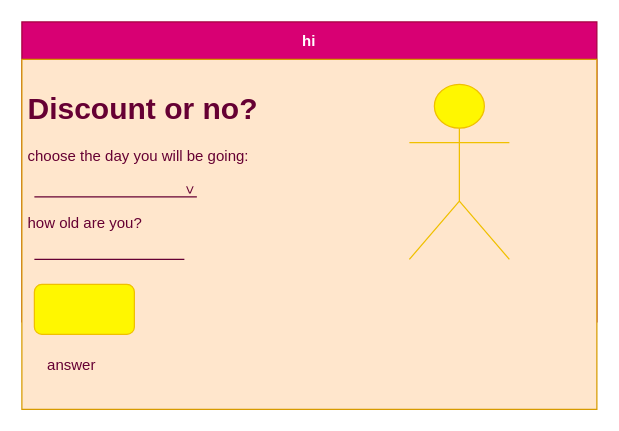
This 619x431 diagram has some shape labels left out. The shapes that lost their labels are listed below. From the top down, each one's centre as x and y in pixels, then its label:
At point (458, 171): "Actor".
At point (83, 308): "button".
